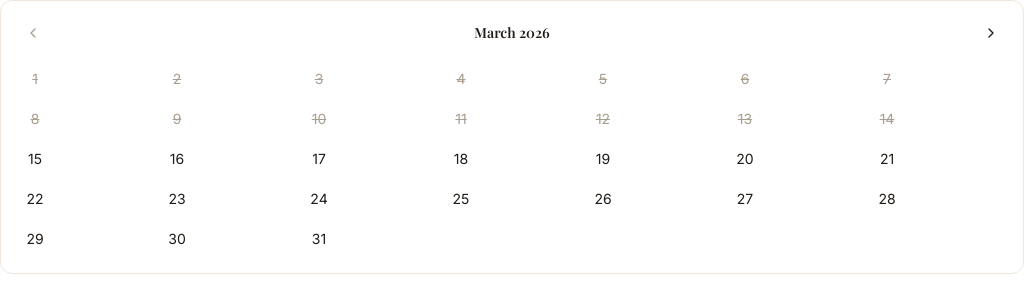
DateTimePicker › navigates to the next month and shows its dates as selectable
This screenshot has width=1024, height=291.
Click the button named "next month" at point(991, 33), box [975,17,1007,49]
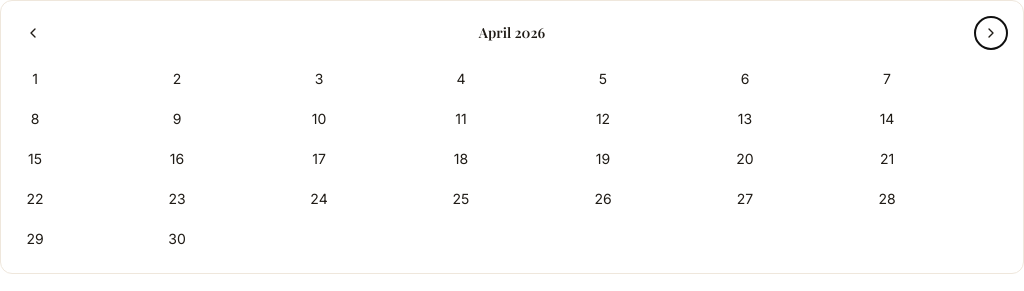
Expected: the text "April 2026" is shown, [479,23,545,43]
Expected: the button "5" is enabled, [585,61,621,97]
